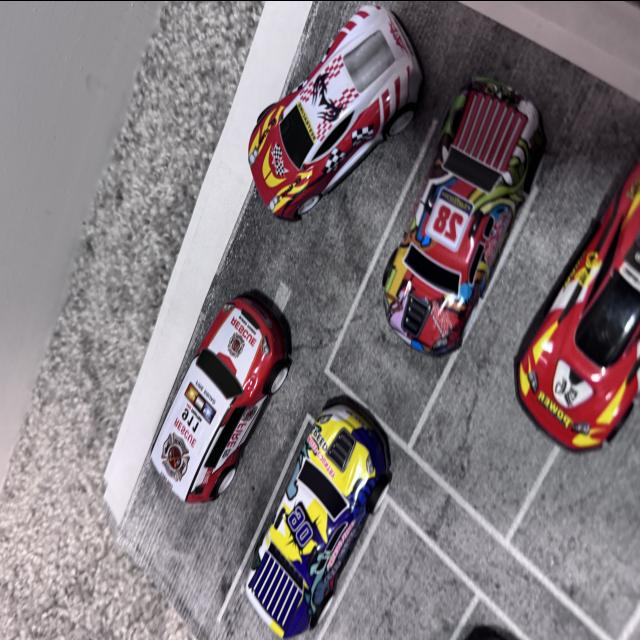car: (474, 103, 640, 512), (350, 85, 576, 377), (202, 0, 446, 170), (266, 372, 398, 640), (146, 256, 274, 486)
